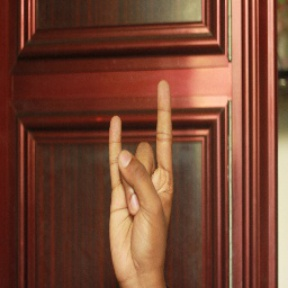V: (104, 72, 185, 273)
